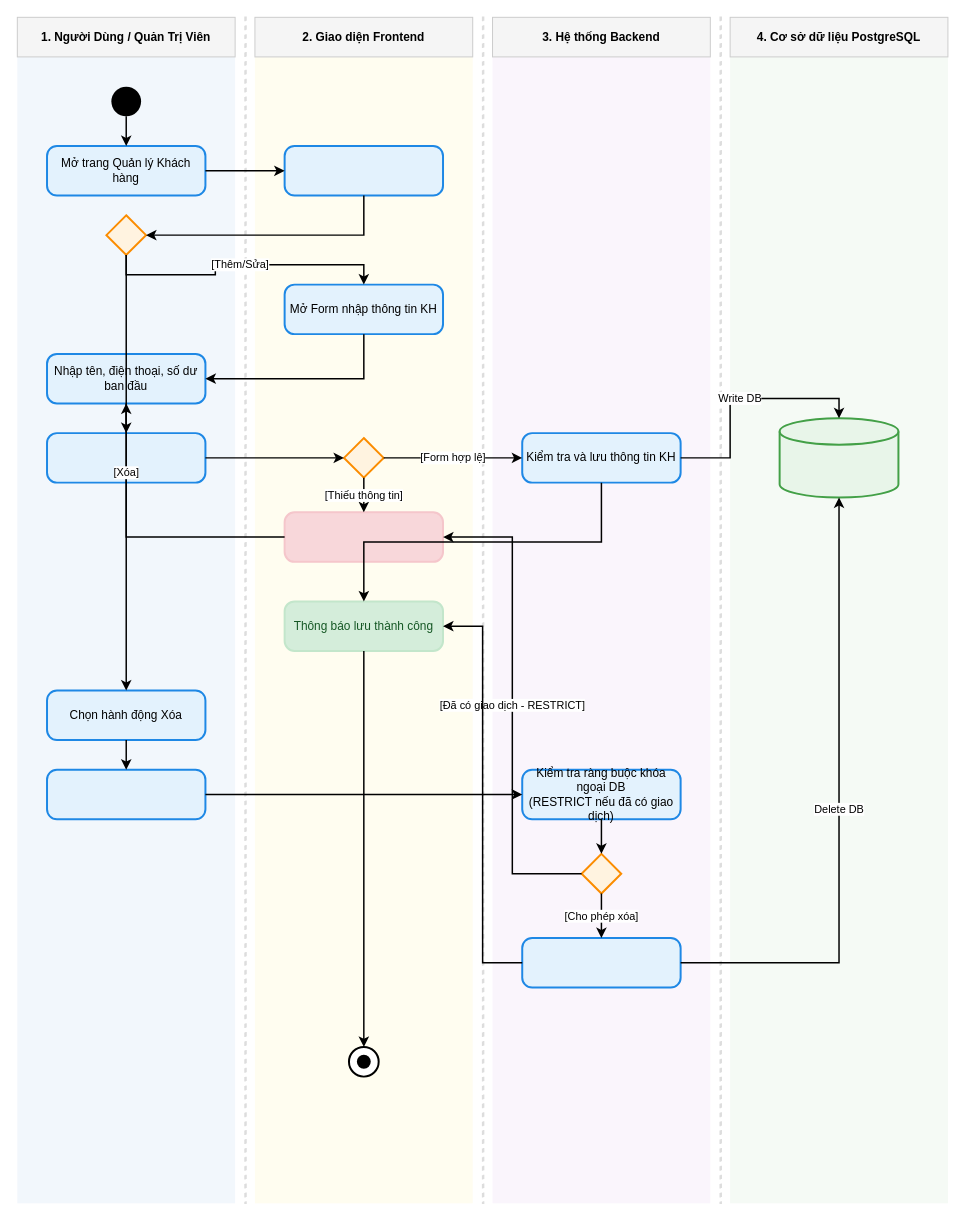
This 965x1222 diagram has some shape labels left out. The shapes that lost their labels are listed below. From the top down, each one's centre as x and y in pixels, then its label:
pixel 363 170: Hiển thị danh sách khách hàng & số dư công nợ toàn cục
pixel 126 457: Nhấn Lưu
pixel 838 457: Bảng Customers
pixel 363 536: Báo lỗi trên giao diện
pixel 126 794: Xác nhận xóa trên popup
pixel 601 962: Thực hiện xóa trong DB
